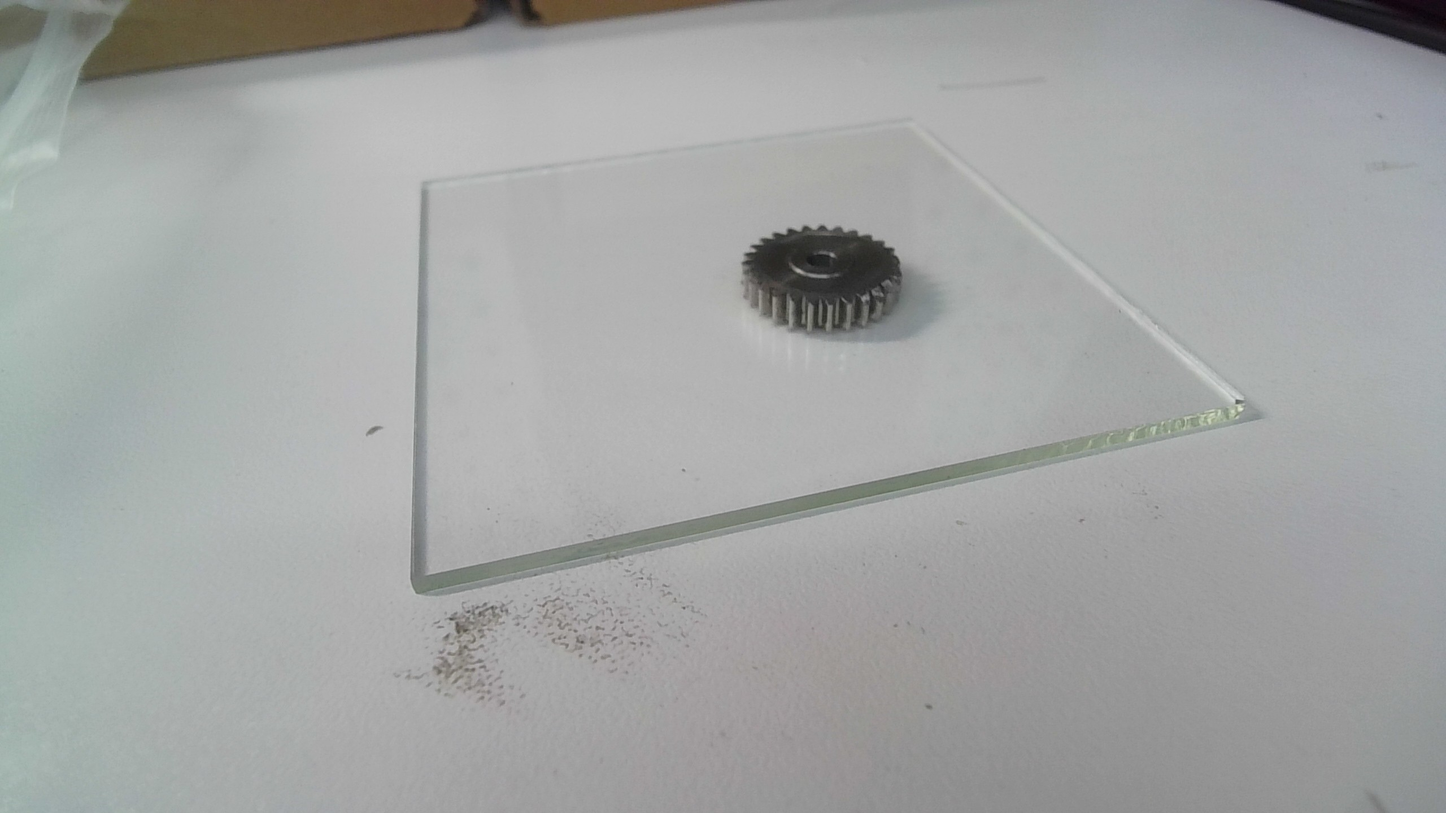gear: (737, 223, 907, 338)
